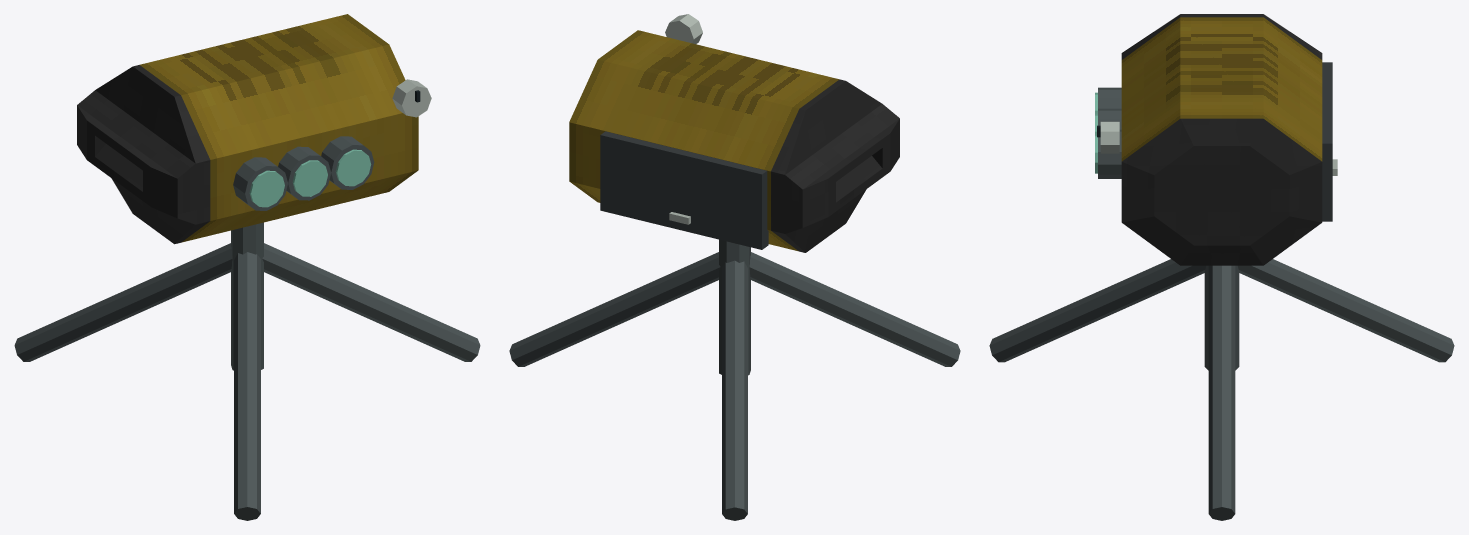
The model's file is blender_dots_projector_2_deployed.glb.
3 renders of one model, left to right at view 1: azimuth 30°, elevation 25°; view 2: azimuth 150°, elevation 25°; view 3: azimuth 270°, elevation 25°, orthographic. The views are drawn at different scales.
Parts seen in each view (by area): view 1: blender_dots_projector_2_deployed; view 2: blender_dots_projector_2_deployed; view 3: blender_dots_projector_2_deployed.
Boxes of the visible parts, x1,y1,x2,y2 form: blender_dots_projector_2_deployed: (14,14,480,520); blender_dots_projector_2_deployed: (509,14,960,520); blender_dots_projector_2_deployed: (989,14,1454,520).
Bounding box in the file's own units: 0.2164 × 0.2053 × 0.2435.
Materials: 1 (1 with a texture image).
